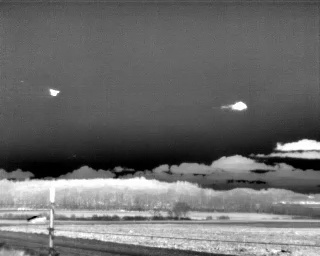DRONE: (46, 85, 63, 100)
